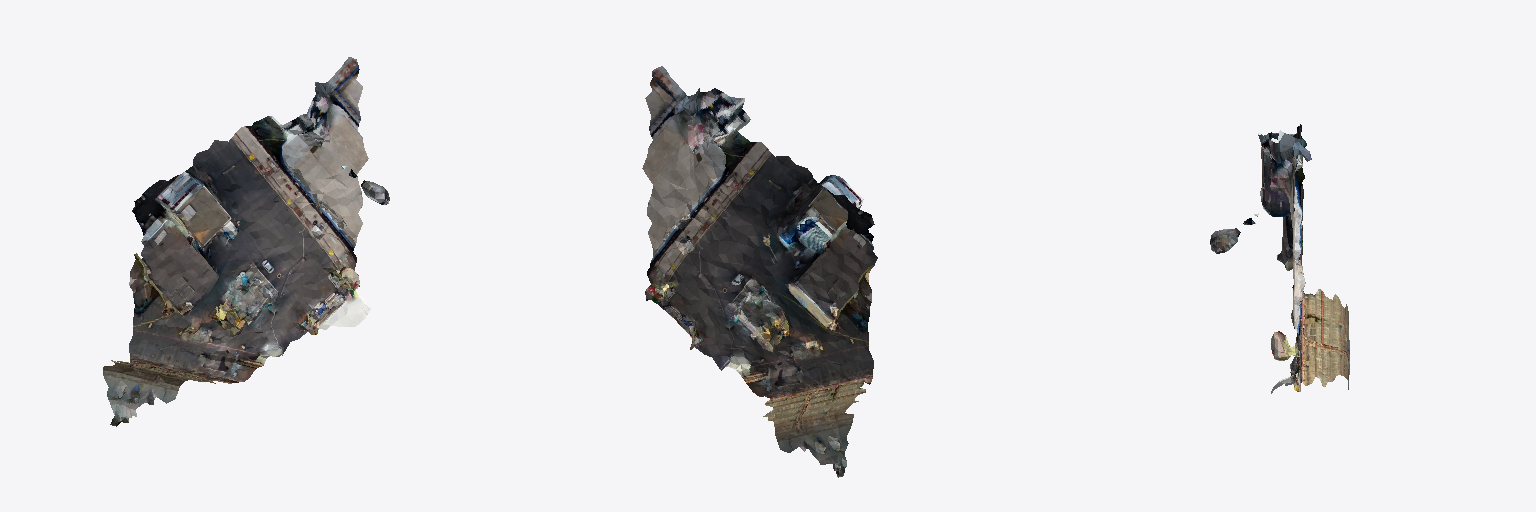
The picture shows the model from 3 angles: view 1: azimuth 30°, elevation 25°; view 2: azimuth 150°, elevation 25°; view 3: azimuth 270°, elevation 25°; orthographic projection.
Size of the model in its own units: 68.98 by 94.21 by 35.
Materials: 1 (1 with a texture image).